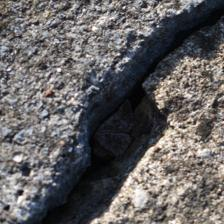Crack: (15, 2, 198, 219)
